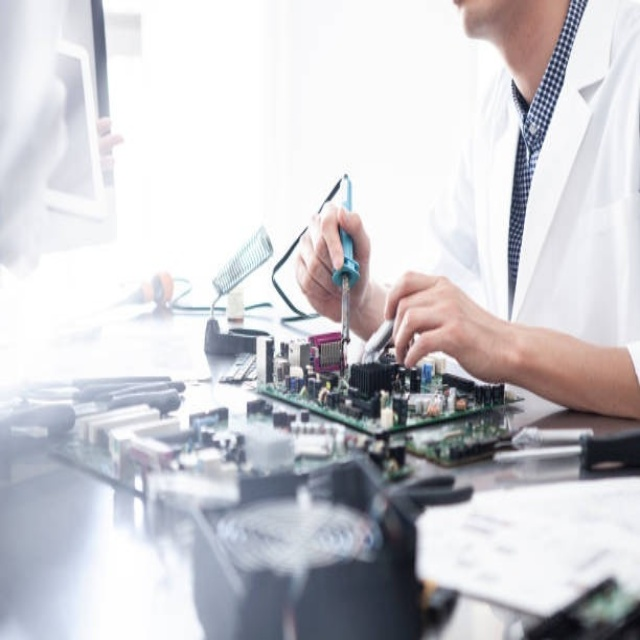Sin_guantes: (384, 259, 512, 389), (296, 198, 375, 318)
